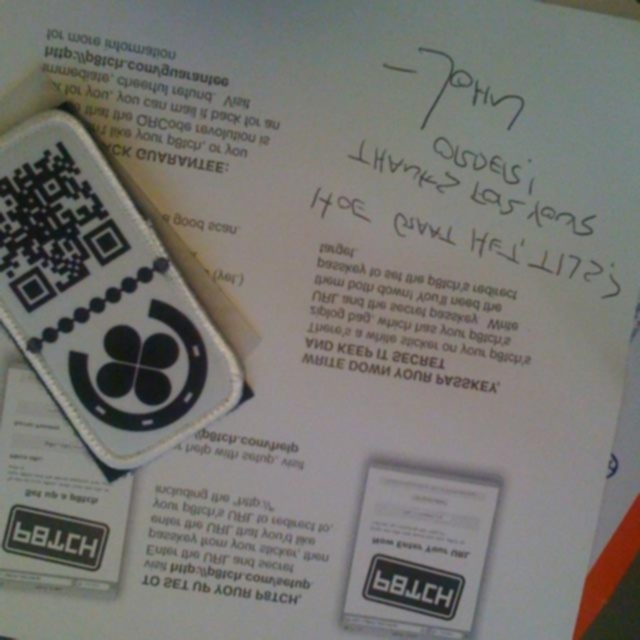qr-code: (0, 142, 132, 314)
